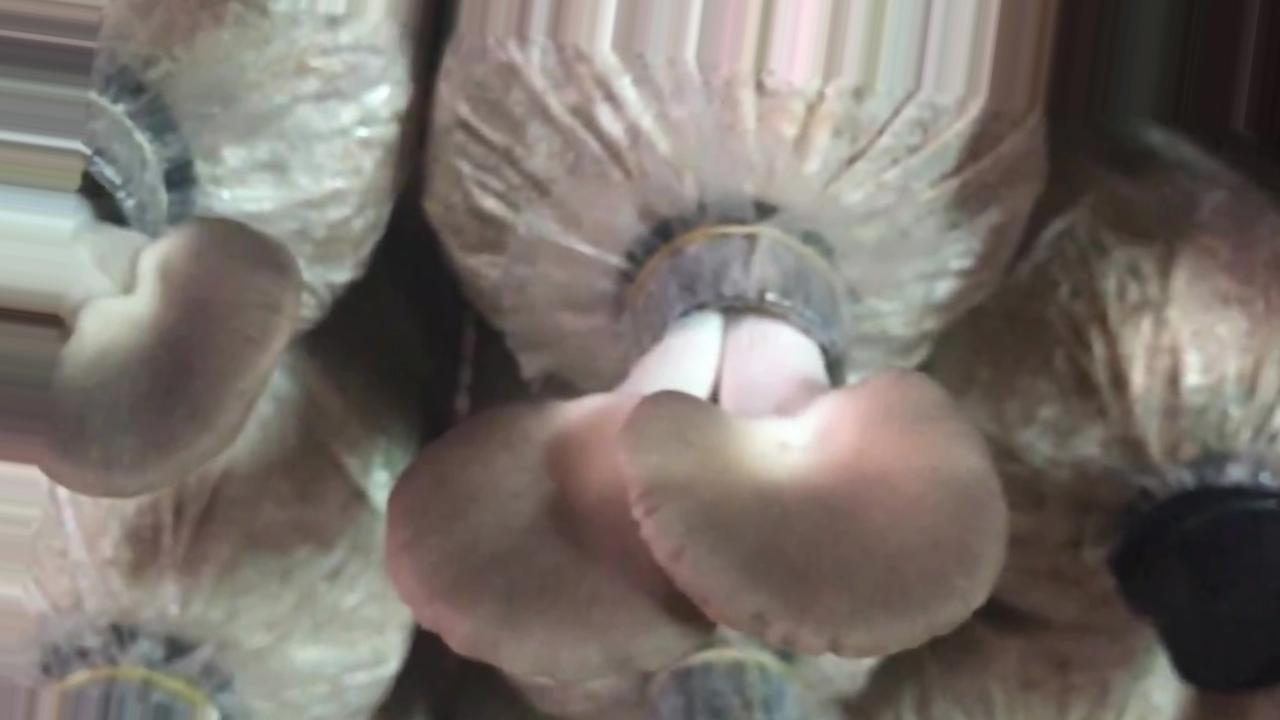nam: (381, 196, 1020, 688), (43, 130, 316, 506)
